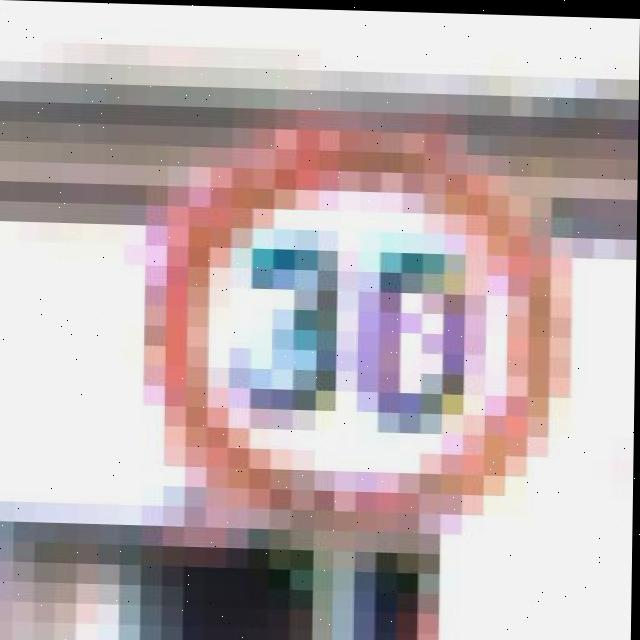Speed limit 30: (138, 109, 579, 530)
